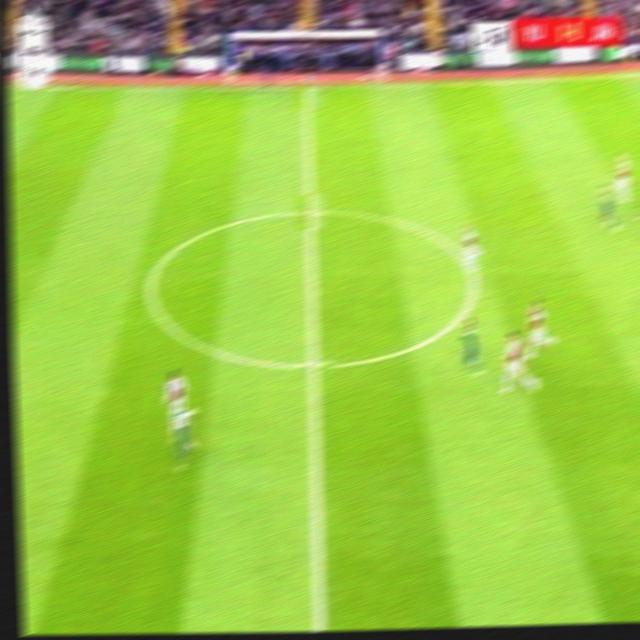halfcircle_bottom: (294, 342, 333, 387)
halfcircle_top: (294, 194, 327, 228)
midline_top_intersection: (289, 65, 325, 108)
